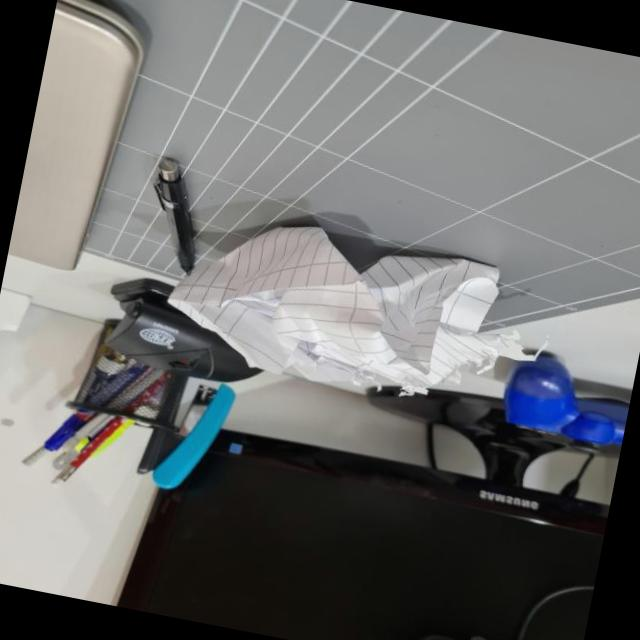cardboard paper: (167, 227, 496, 391)
